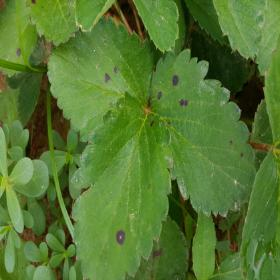Leaf Spot: (71, 89, 175, 279), (148, 47, 256, 219), (45, 16, 156, 143), (30, 0, 116, 48), (0, 0, 38, 78)
